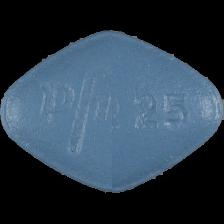54868-4784: (0, 0, 224, 224)
